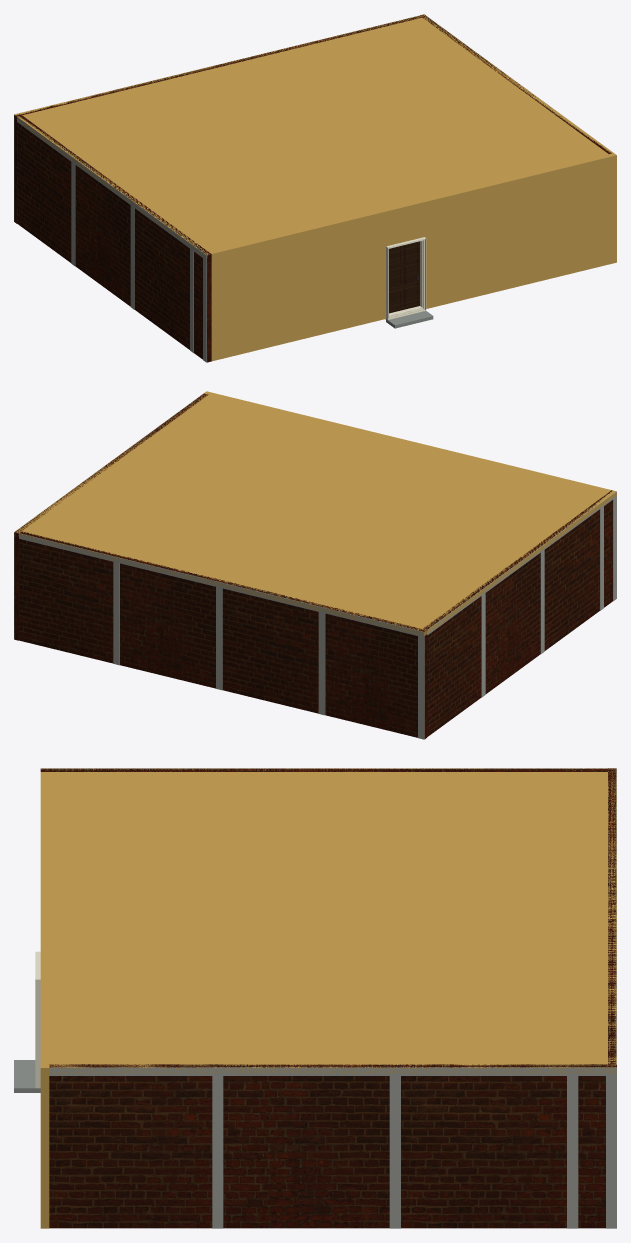
File: building.glb
3 renders of one model, top to bottom at view 1: azimuth 30°, elevation 25°; view 2: azimuth 150°, elevation 25°; view 3: azimuth 270°, elevation 25°, orthographic. The views are drawn at different scales.
Visible parts, largest first — view 1: roof/house:0/roof_slab#0001, house:0/edge0/z0/house:0/edge0/z0/wall_0_0, house:0/edge3/z0/house:0/edge3/z0/wall_0_0, house:0/edge2/z0/house:0/edge2/z0/wall_0_0, house:0/edge3/z0/house:0/edge3/z0/beam_0_0, house:0/edge1/z0/house:0/edge1/z0/wall_0_0, house:0/edge3/z0/house:0/edge3/z0/column_3_0, house:0/edge3/z0/house:0/edge3/z0/column_2_0; view 2: roof/house:0/roof_slab#0001, house:0/edge2/z0/house:0/edge2/z0/wall_0_0, house:0/edge3/z0/house:0/edge3/z0/wall_0_0, house:0/edge2/z0/house:0/edge2/z0/beam_0_0, house:0/edge1/z0/house:0/edge1/z0/wall_0_0, house:0/edge0/z0/house:0/edge0/z0/wall_0_0, house:0/edge2/z0/house:0/edge2/z0/column_4_0, house:0/edge3/z0/house:0/edge3/z0/beam_0_0, house:0/edge2/z0/house:0/edge2/z0/column_1_0, house:0/edge2/z0/house:0/edge2/z0/column_3_0, house:0/edge2/z0/house:0/edge2/z0/column_2_0, house:0/edge3/z0/house:0/edge3/z0/column_2_0 (+1 smaller); view 3: roof/house:0/roof_slab#0001, house:0/edge1/z0/house:0/edge1/z0/wall_0_0, house:0/edge1/z0/house:0/edge1/z0/beam_0_0, house:0/edge0/z0/house:0/edge0/z0/wall_0_0, house:0/edge2/z0/house:0/edge2/z0/wall_0_0, house:0/edge3/z0/house:0/edge3/z0/wall_0_0, house:0/edge1/z0/house:0/edge1/z0/column_2_0, house:0/edge1/z0/house:0/edge1/z0/column_3_0, house:0/edge1/z0/house:0/edge1/z0/column_4_0, house:0/edge1/z0/house:0/edge1/z0/column_1_0, house:0/edge0/z0/opening_u7.00_v0.00/door_moulding#0028, entrance/umbral_y_descanso/entrance_steps#0001.
Boxes of the visible parts, x1,y1,x2,y2 form: roof/house:0/roof_slab#0001: (14,14,616,257); house:0/edge0/z0/house:0/edge0/z0/wall_0_0: (209,154,616,361); house:0/edge3/z0/house:0/edge3/z0/wall_0_0: (17,115,211,362); house:0/edge2/z0/house:0/edge2/z0/wall_0_0: (14,16,421,223); house:0/edge3/z0/house:0/edge3/z0/beam_0_0: (17,116,206,260); house:0/edge1/z0/house:0/edge1/z0/wall_0_0: (420,14,611,153); house:0/edge3/z0/house:0/edge3/z0/column_3_0: (130,205,134,309); house:0/edge3/z0/house:0/edge3/z0/column_2_0: (71,162,75,266); roof/house:0/roof_slab#0001: (14,392,616,635); house:0/edge2/z0/house:0/edge2/z0/wall_0_0: (19,531,427,738); house:0/edge3/z0/house:0/edge3/z0/wall_0_0: (423,490,612,736); house:0/edge2/z0/house:0/edge2/z0/beam_0_0: (19,533,424,637); house:0/edge1/z0/house:0/edge1/z0/wall_0_0: (14,393,208,640); house:0/edge0/z0/house:0/edge0/z0/wall_0_0: (204,391,611,491); house:0/edge2/z0/house:0/edge2/z0/column_4_0: (318,612,325,715); house:0/edge3/z0/house:0/edge3/z0/beam_0_0: (427,491,616,635); house:0/edge2/z0/house:0/edge2/z0/column_1_0: (418,636,424,739); house:0/edge2/z0/house:0/edge2/z0/column_3_0: (216,587,222,690); house:0/edge2/z0/house:0/edge2/z0/column_2_0: (113,562,119,665); house:0/edge3/z0/house:0/edge3/z0/column_2_0: (481,593,485,697); roof/house:0/roof_slab#0001: (40,768,616,1073); house:0/edge1/z0/house:0/edge1/z0/wall_0_0: (49,1064,616,1228); house:0/edge1/z0/house:0/edge1/z0/beam_0_0: (49,1067,616,1075); house:0/edge0/z0/house:0/edge0/z0/wall_0_0: (40,772,49,1228); house:0/edge2/z0/house:0/edge2/z0/wall_0_0: (608,768,616,1064); house:0/edge3/z0/house:0/edge3/z0/wall_0_0: (40,768,607,771); house:0/edge1/z0/house:0/edge1/z0/column_2_0: (212,1076,223,1228); house:0/edge1/z0/house:0/edge1/z0/column_3_0: (389,1076,400,1228); house:0/edge1/z0/house:0/edge1/z0/column_4_0: (567,1076,578,1228); house:0/edge1/z0/house:0/edge1/z0/column_1_0: (606,1076,616,1228); house:0/edge0/z0/opening_u7.00_v0.00/door_moulding#0028: (35,951,40,1088); entrance/umbral_y_descanso/entrance_steps#0001: (14,1060,40,1092).
Bounding box in the file's own units: 16 × 4.12 × 13.6.
Materials: 7 (2 with a texture image).
